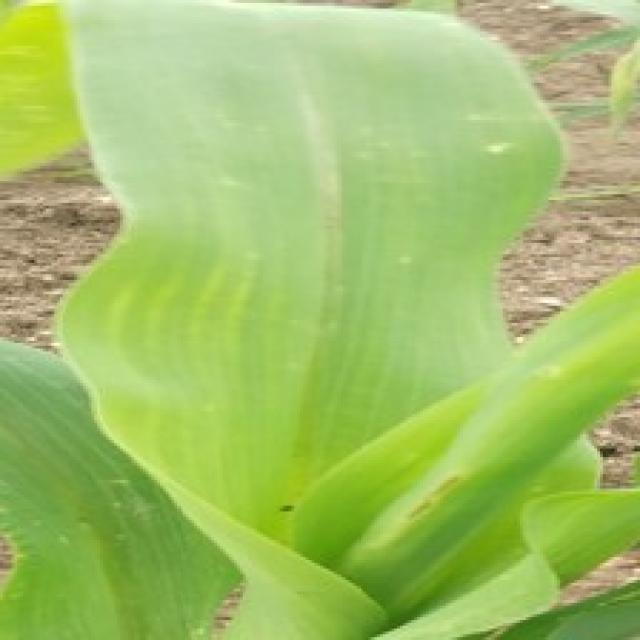Corn: (0, 0, 637, 637), (0, 323, 243, 637), (0, 0, 86, 186)
